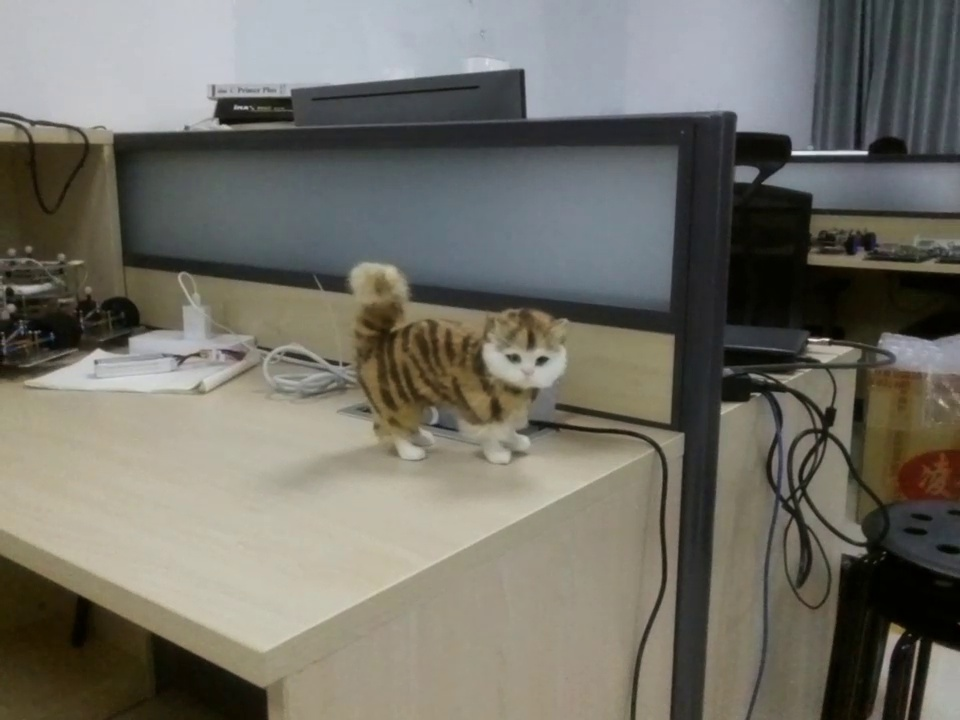cat: (336, 251, 581, 470)
